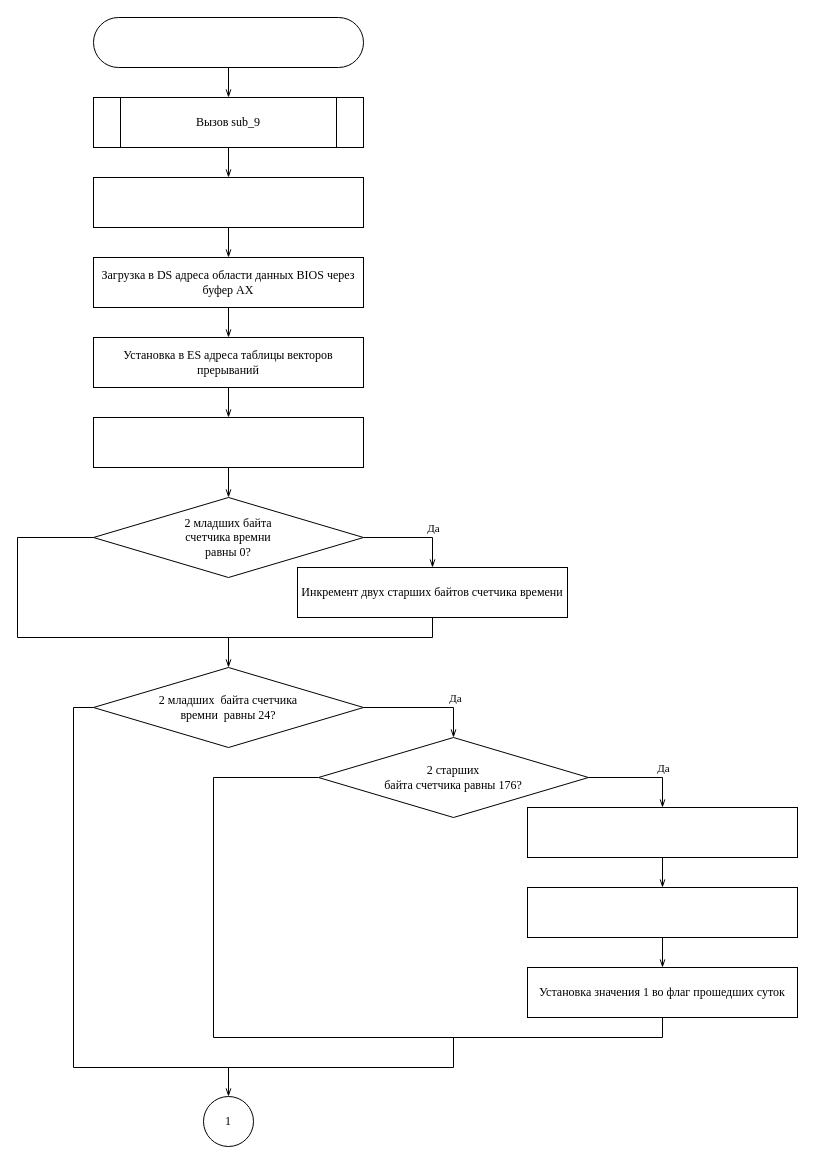
This 815x1164 diagram has some shape labels left out. Here are the shapes that lost their labels. From the top down, the centre of each, then its label:
At pixel 228 42: "Начало".
At pixel 228 202: "Сохранение ES, DS, AX, DX".
At pixel 228 442: "Инкремент двух младших байтов счетчика времени".
At pixel 662 832: "Обнуление двух старших байтов счетчика времени".
At pixel 662 912: "Обнуление младших старших байтов счетчика времени".
